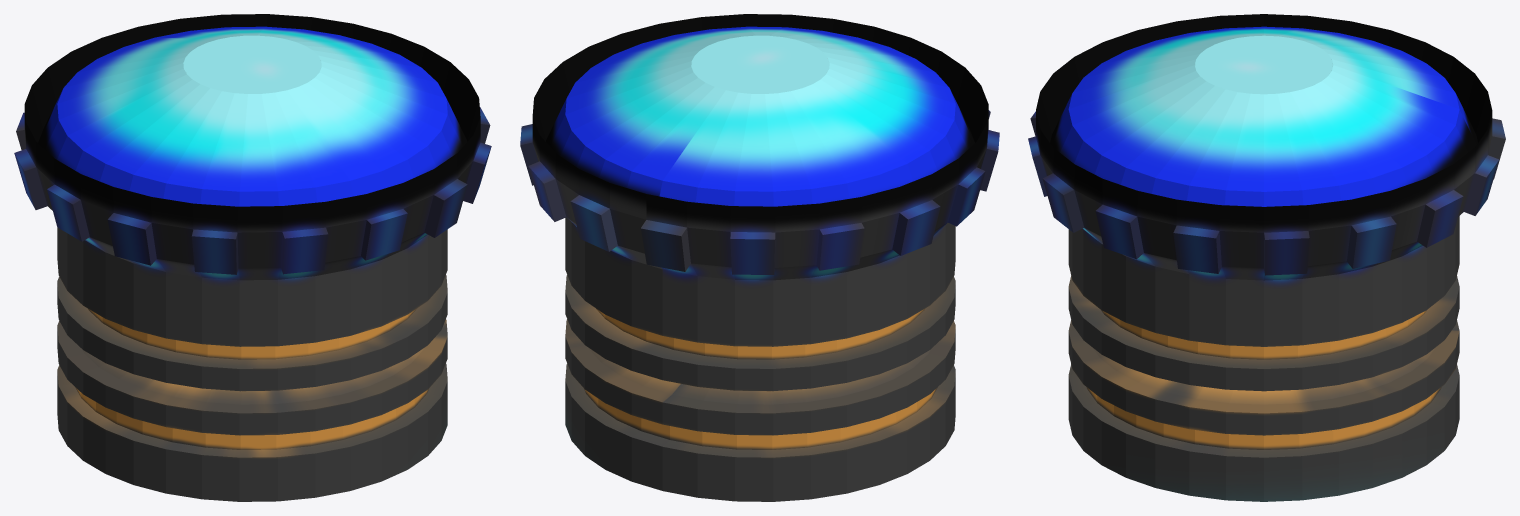
Rendered from TopPce.glb.
The picture shows the model from 3 angles, left to right: view 1: azimuth 30°, elevation 25°; view 2: azimuth 150°, elevation 25°; view 3: azimuth 270°, elevation 25°; orthographic projection.
Visible parts, largest first — view 1: Cylinder; view 2: Cylinder; view 3: Cylinder.
Boxes of the visible parts, x1=… form: Cylinder: x1=14, y1=14, x2=491, y2=501; Cylinder: x1=520, y1=14, x2=999, y2=501; Cylinder: x1=1028, y1=14, x2=1505, y2=501.
Bounding box in the file's own units: 2.44 × 2 × 2.45.
1 material, 1 textured.
